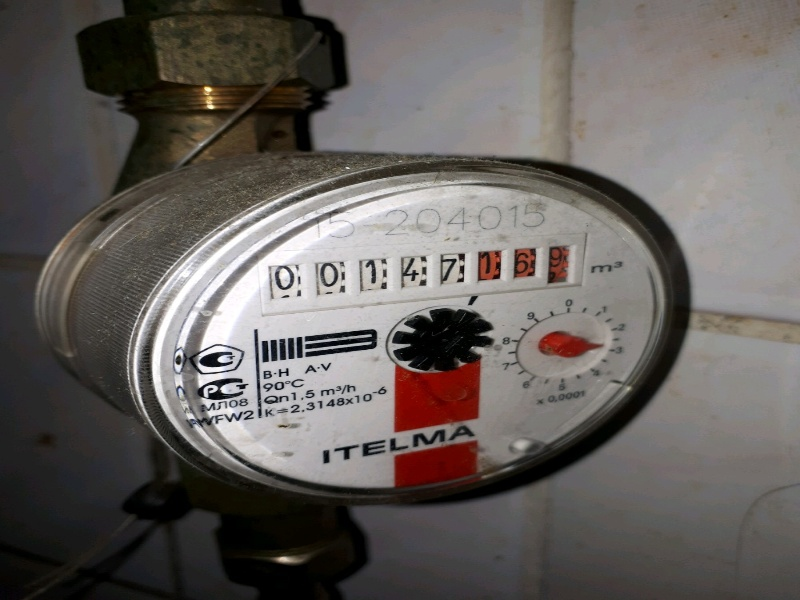meter: (261, 239, 590, 296)
